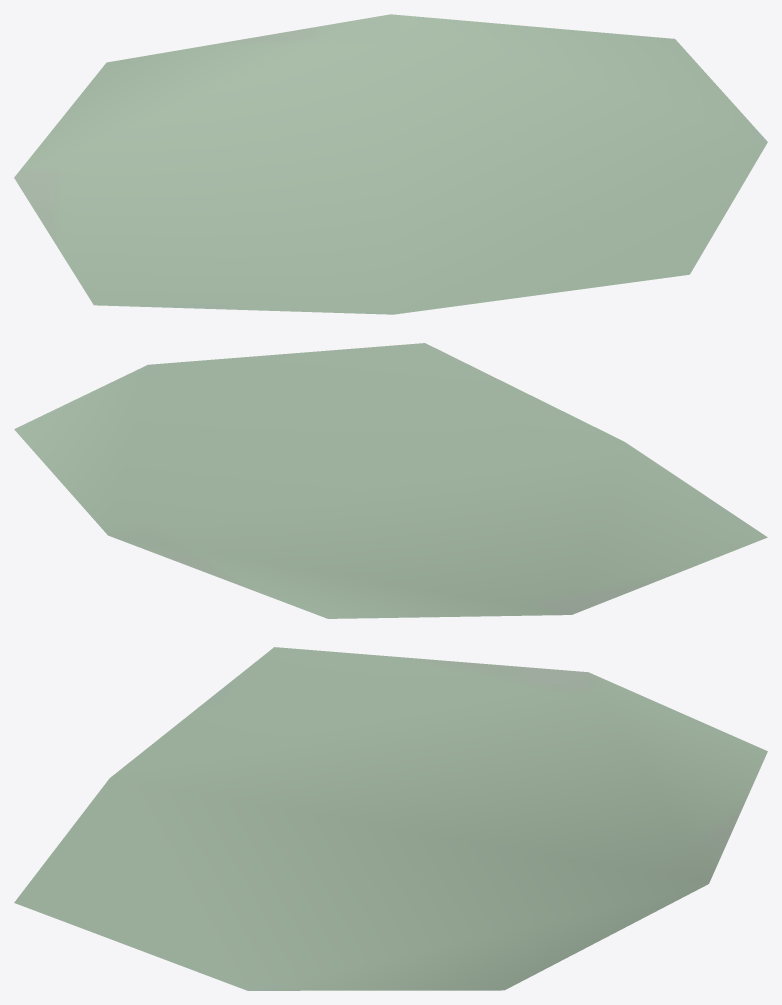
The model's file is TROLLHOLE02_HOLECAP127.fbx.
The picture shows the model from 3 angles, top to bottom: view 1: azimuth 30°, elevation 25°; view 2: azimuth 150°, elevation 25°; view 3: azimuth 270°, elevation 25°; orthographic projection. The views are drawn at different scales.
Visible parts, largest first — view 1: TROLLHOLE02_HOLECAP127; view 2: TROLLHOLE02_HOLECAP127; view 3: TROLLHOLE02_HOLECAP127.
Boxes of the visible parts, bbox=[...] form: TROLLHOLE02_HOLECAP127: bbox=[14, 14, 767, 314]; TROLLHOLE02_HOLECAP127: bbox=[14, 343, 767, 618]; TROLLHOLE02_HOLECAP127: bbox=[14, 647, 767, 990].
Bounding box in the file's own units: 31640 × 1558 × 27375.
1 material, 1 textured.
